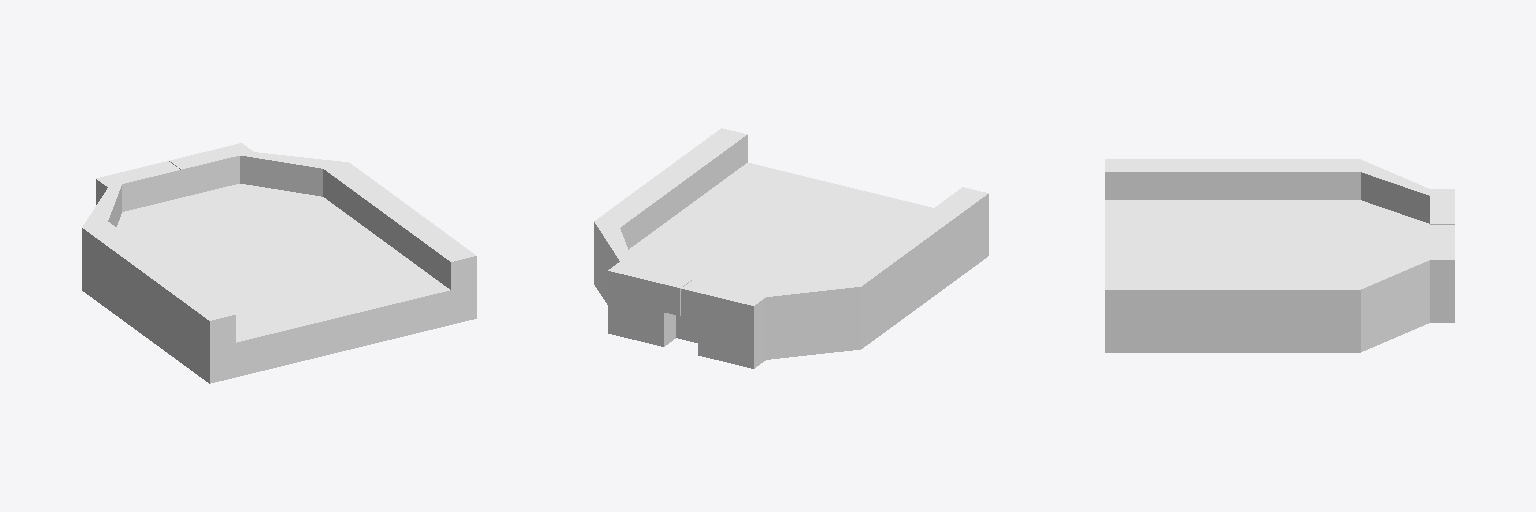
Rendered from Floor1.obj.
3 views of the same model, side by side, from view 1: azimuth 30°, elevation 25°; view 2: azimuth 150°, elevation 25°; view 3: azimuth 270°, elevation 25° (orthographic).
Visible parts, largest first — view 1: Floor1; view 2: Floor1; view 3: Floor1.
Boxes of the visible parts, <box> form: Floor1: <box>82,143,476,383</box>; Floor1: <box>594,128,988,368</box>; Floor1: <box>1105,159,1454,352</box>.
Size of the model in its own units: 8.04 by 1.81 by 9.09.